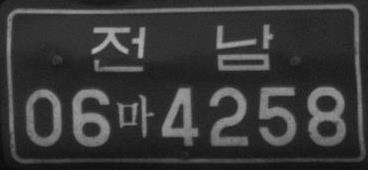0: (24, 87, 62, 146)
2: (208, 85, 249, 147)
4: (161, 85, 198, 146)
5: (258, 85, 297, 148)
6: (71, 88, 111, 147)
8: (306, 85, 347, 147)
마: (116, 94, 155, 138)
전남_D: (90, 23, 273, 73)
